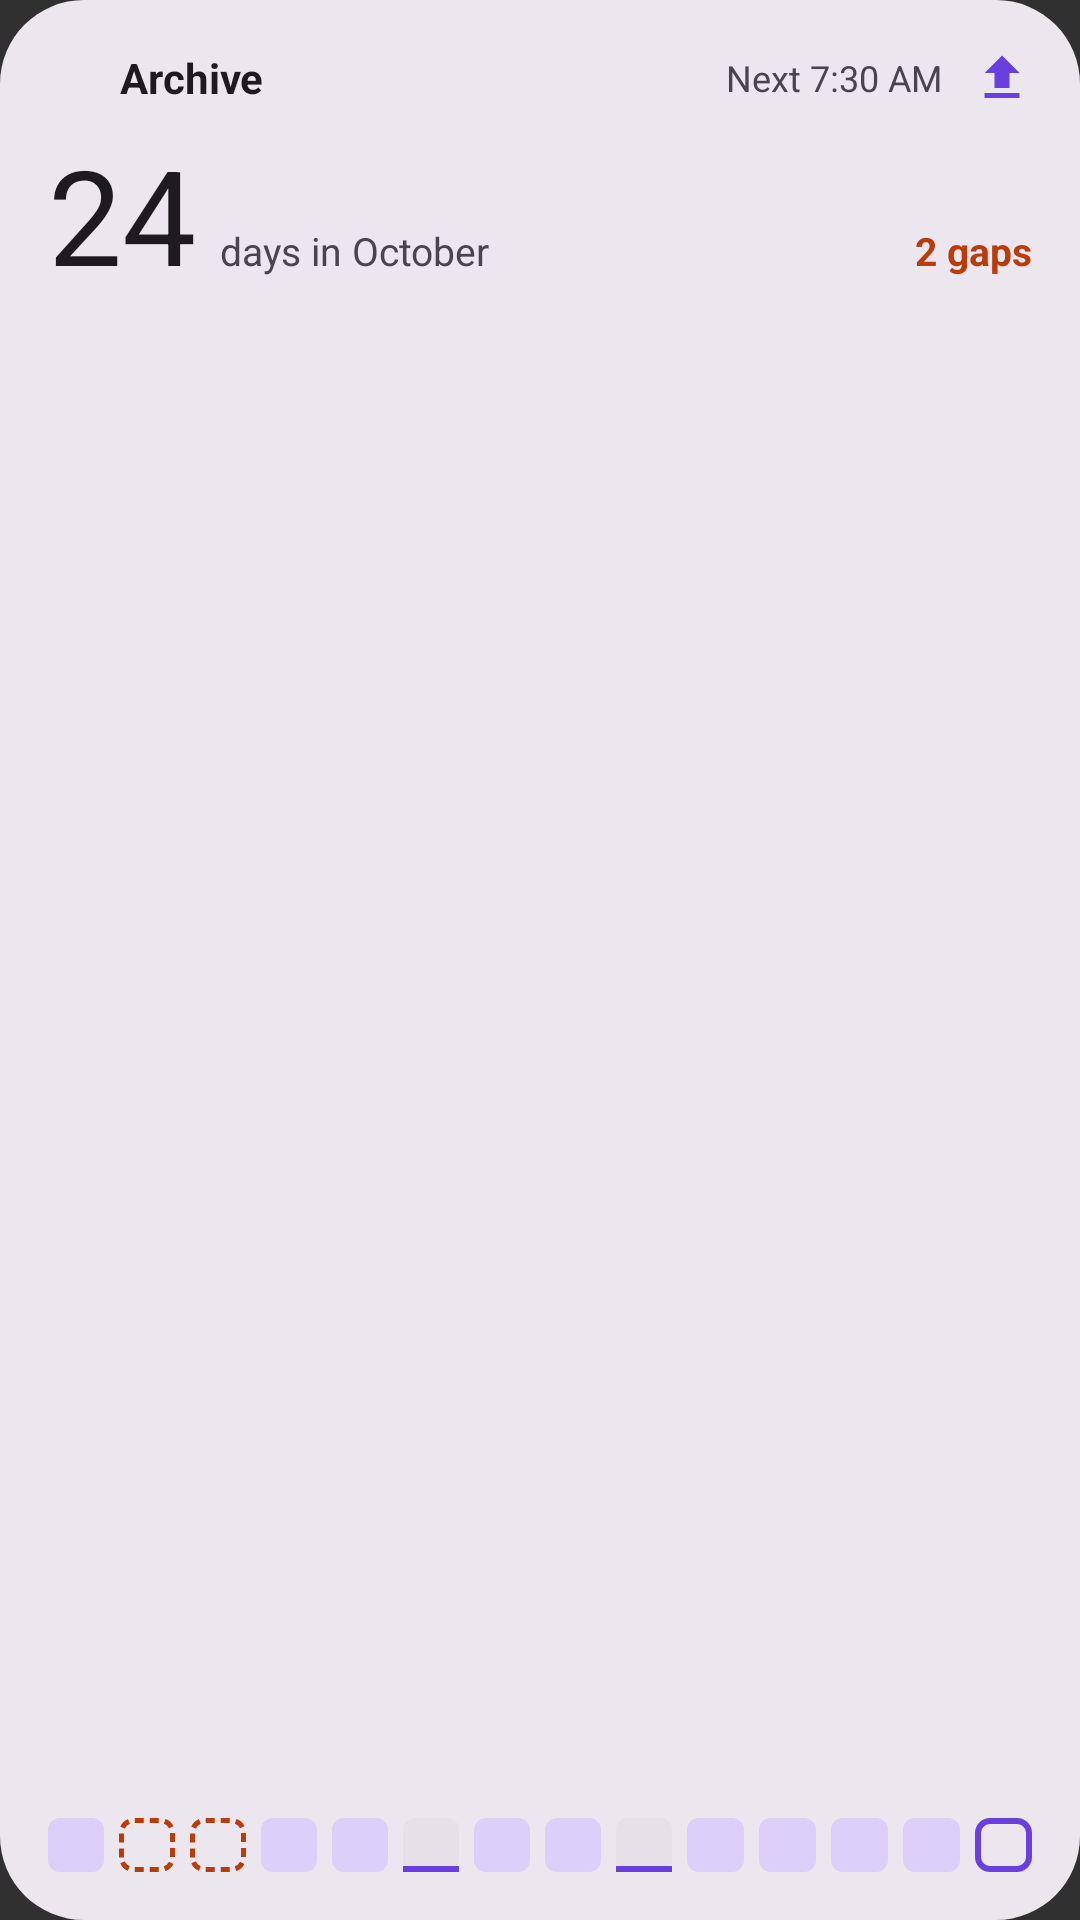

Locate icon controls on the screen. Image size 1080*1920, boxes as bbox=[x1, y1, x2, y2].
Export now: bbox=[984, 55, 1020, 98]
